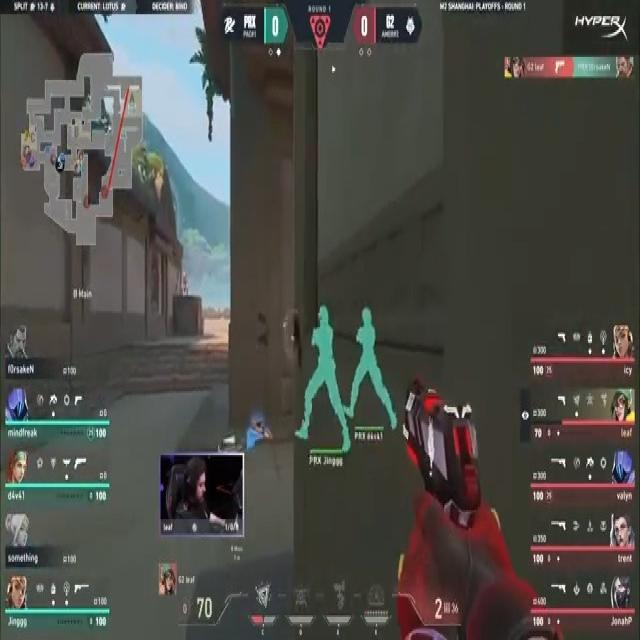ally behind wall: (344, 295, 398, 450), (298, 305, 348, 462)
